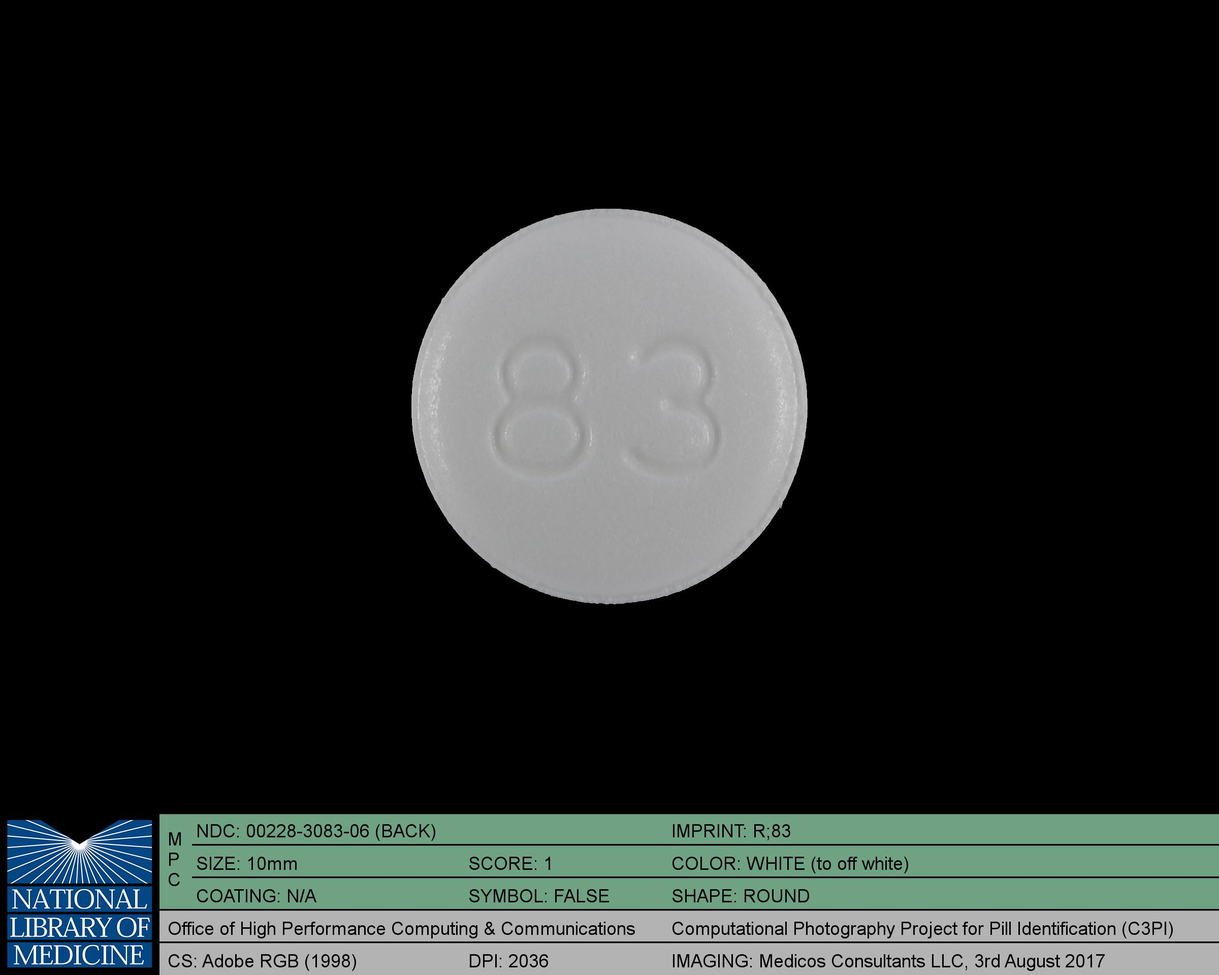Pill: (391, 185, 826, 625)
